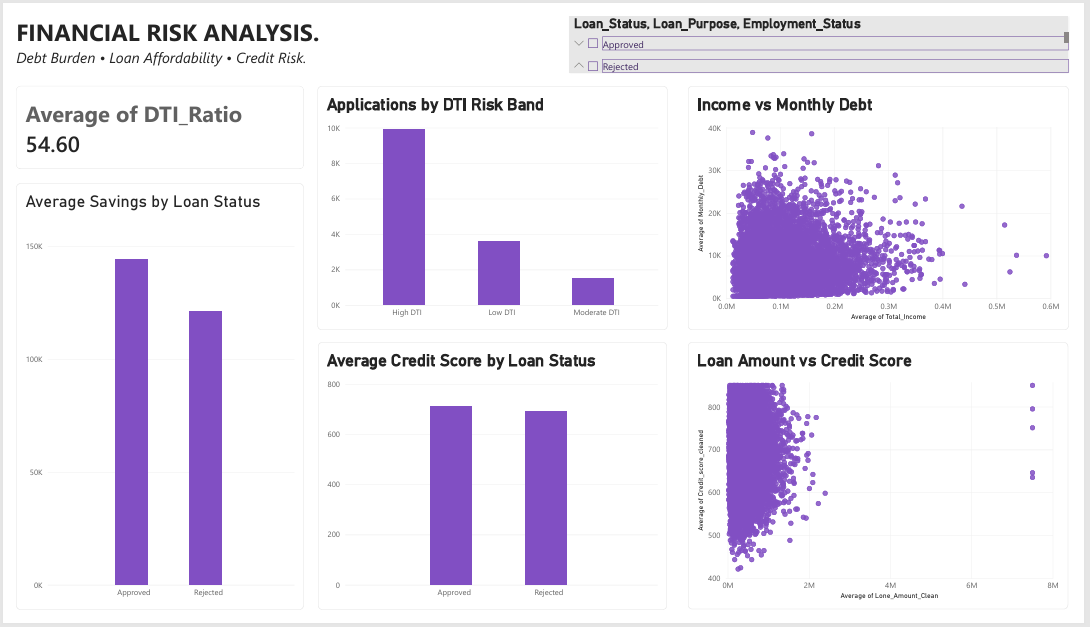

Layout of this report page (visuals, bound fields, positions):
{"tool":"powerbi","page":{"name":"Financial Risk Analysis","canvas":[1920,1080],"ordinal":2},"visuals":[{"type":"textbox","box":[0,0,1918.5,101.9],"z":0},{"type":"cardVisual","title":"Average Debt-to-Income Ratio","fields":{"Data":["Avg(LoanData_Cleaned.DTI_Ratio)"]},"box":[0,126.7,524.4,151.1],"z":1000},{"type":"clusteredColumnChart","title":"Applications by DTI Risk Band","fields":{"Category":["LoanData_Cleaned.D1TI_Risk_Band"],"Y":["CountNonNull(LoanData_Cleaned.Application_ID)"]},"box":[548.9,126.7,637.8,444.4],"z":2000},{"type":"scatterChart","title":"Income vs Monthly Debt","fields":{"Category":["LoanData_Cleaned.Application_ID"],"X":["Sum(LoanData_Cleaned.Total_Income)"],"Y":["Sum(LoanData_Cleaned.Monthly_Debt)"]},"box":[1224.4,126.7,693.3,444.4],"z":3000},{"type":"clusteredBarChart","title":"Average Savings by Loan Status","fields":{"Category":["LoanData_Cleaned.Loan_Status"],"Y":["Avg(LoanData_Cleaned.Savings)"]},"box":[0,304.4,524.4,775.6],"z":4000},{"type":"clusteredColumnChart","title":"Average Credit Score by Loan Status","fields":{"Category":["LoanData_Cleaned.Loan_Status"],"Y":["Avg(LoanData_Cleaned.Credit_score_cleaned)"]},"box":[550,593.2,636.4,486.4],"z":5000},{"type":"scatterChart","title":"Loan Amount vs Credit Score","fields":{"Category":["LoanData_Cleaned.Application_ID"],"X":["Sum(LoanData_Cleaned.Lone_Amount_Clean)"],"Y":["Sum(LoanData_Cleaned.Credit_score_cleaned)"]},"box":[1224,593,693,486],"z":6000},{"type":"slicer","fields":{"Values":["LoanData_Cleaned.Loan_Status","LoanData_Cleaned.Loan_Purpose","LoanData_Cleaned.Employment_Status"]},"box":[1009.1,0,909.1,102.3],"z":7000}]}

Visuals, with their boxes in screenshot pixels (x1, y1, x2, y2), scaled from the page's 1920x1080 canvas onto the 1090x627 screenshot:
textbox: x1=0, y1=0, x2=1089, y2=59
"Average Debt-to-Income Ratio" cardVisual: x1=0, y1=74, x2=298, y2=161
"Applications by DTI Risk Band" clusteredColumnChart: x1=312, y1=74, x2=674, y2=332
"Income vs Monthly Debt" scatterChart: x1=695, y1=74, x2=1089, y2=332
"Average Savings by Loan Status" clusteredBarChart: x1=0, y1=177, x2=298, y2=626
"Average Credit Score by Loan Status" clusteredColumnChart: x1=312, y1=344, x2=674, y2=626
"Loan Amount vs Credit Score" scatterChart: x1=695, y1=344, x2=1088, y2=626
slicer - LoanData_Cleaned.Loan_Status x LoanData_Cleaned.Loan_Purpose: x1=573, y1=0, x2=1089, y2=59
